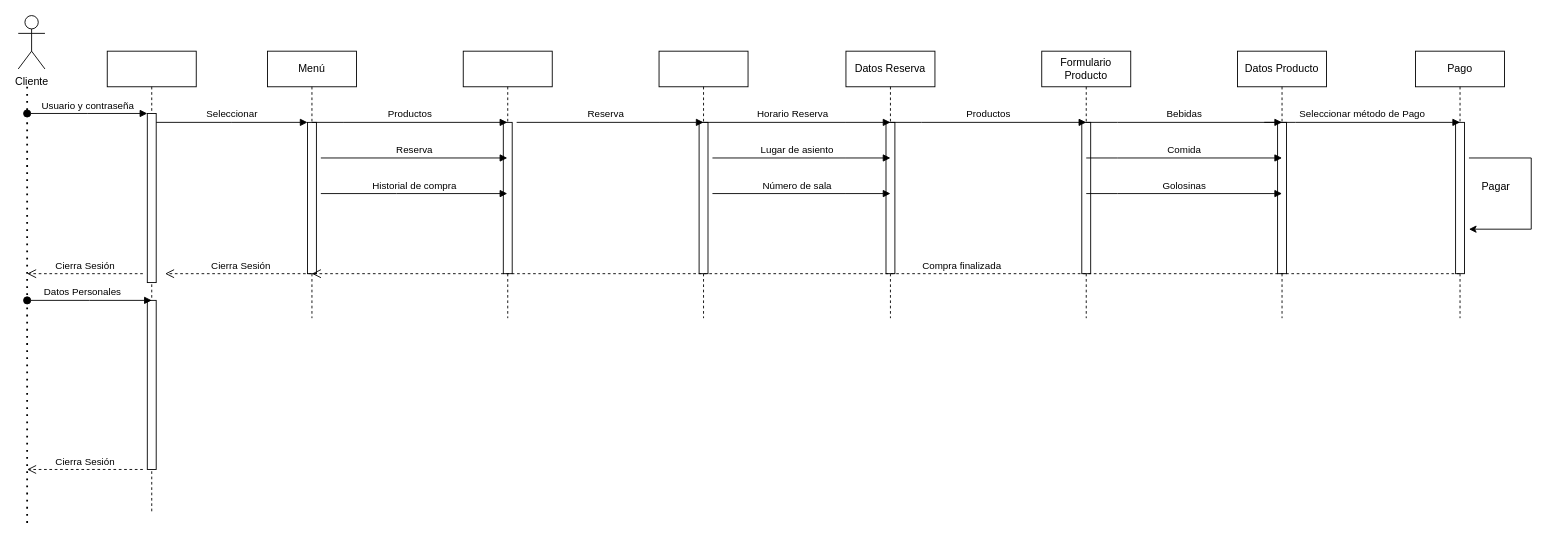
This 1554x540 diagram has some shape labels left out. Each missing label, with the box of its shape:
Formulario Reserva: (658, 50, 748, 318)
Iniciar sesión: (106, 50, 196, 514)
Seleccione 1: (462, 50, 552, 318)
